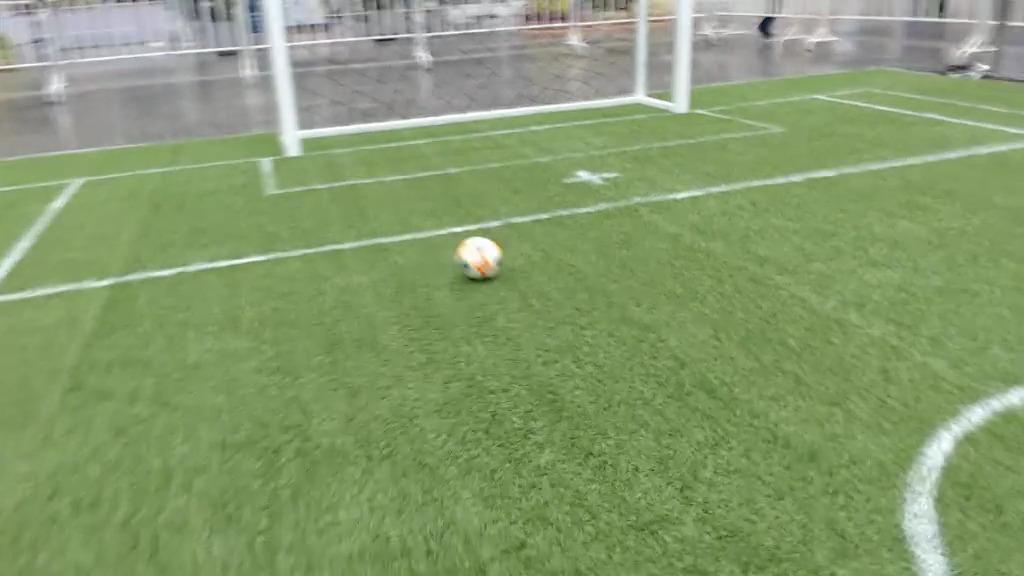ball: (458, 237, 503, 280)
